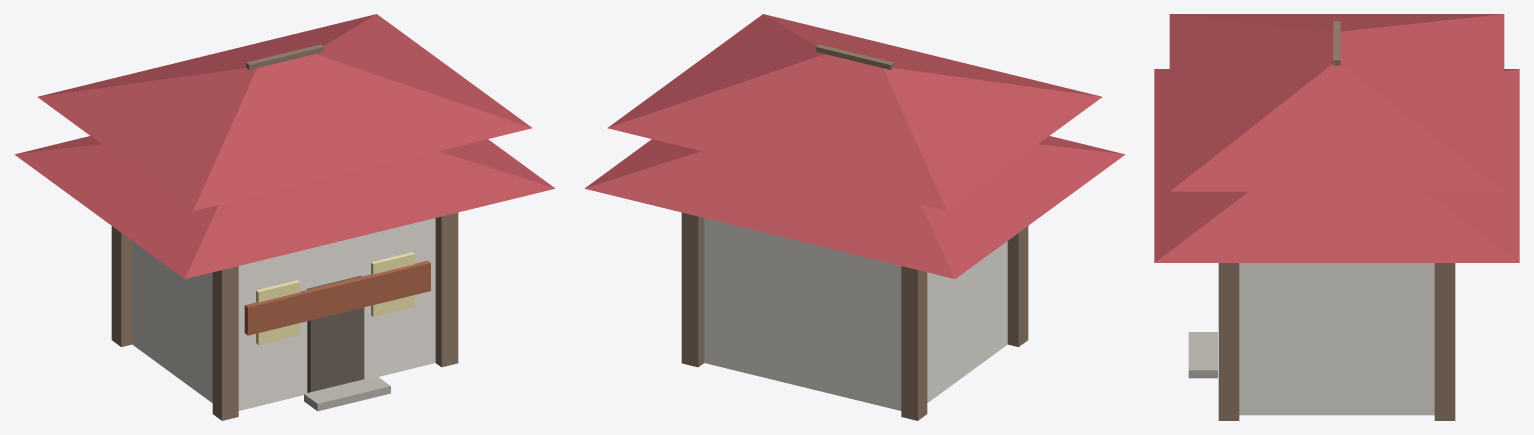
Rendered from commercial_a.glb.
3 renders of one model, left to right at view 1: azimuth 30°, elevation 25°; view 2: azimuth 150°, elevation 25°; view 3: azimuth 270°, elevation 25°, orthographic. The views are drawn at different scales.
Bounding box in the file's own units: 6.25 × 4.78 × 4.97.
